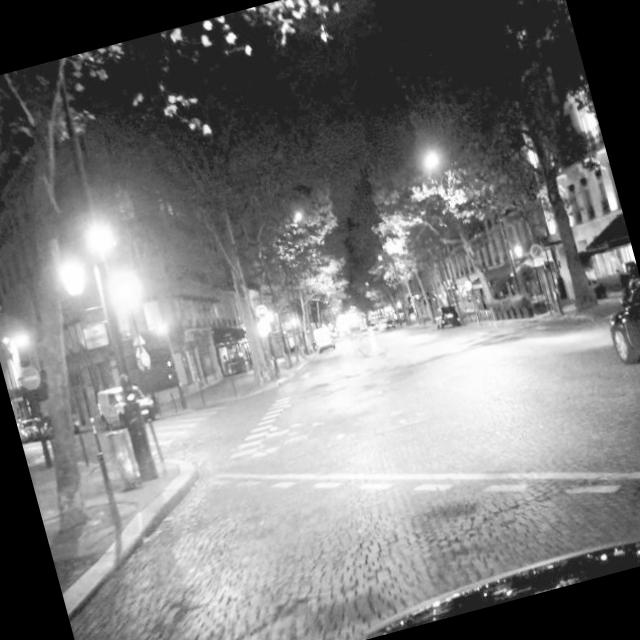Car: (595, 262, 640, 379)
Light: (12, 332, 33, 367), (113, 278, 136, 304), (120, 381, 138, 411)
Tree: (0, 53, 199, 547)
